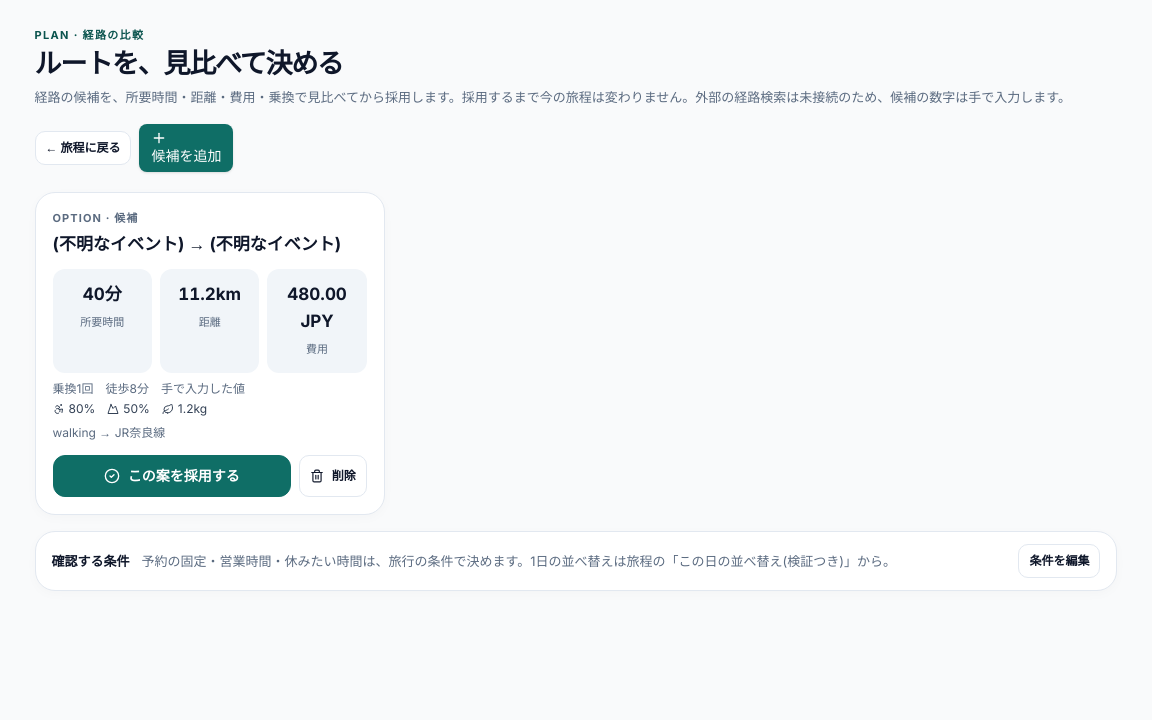
it: RouteOptionsPage (Gate B-013/B-014) › 構造化された409のdetailはmessageを表示する(オブジェクトをそのまま描画しない)
The width and height of the screenshot is (1152, 720).
Click the button with aria-label "この経路候補を削除".
click(333, 476)  # box left=299, top=454, right=367, bottom=497
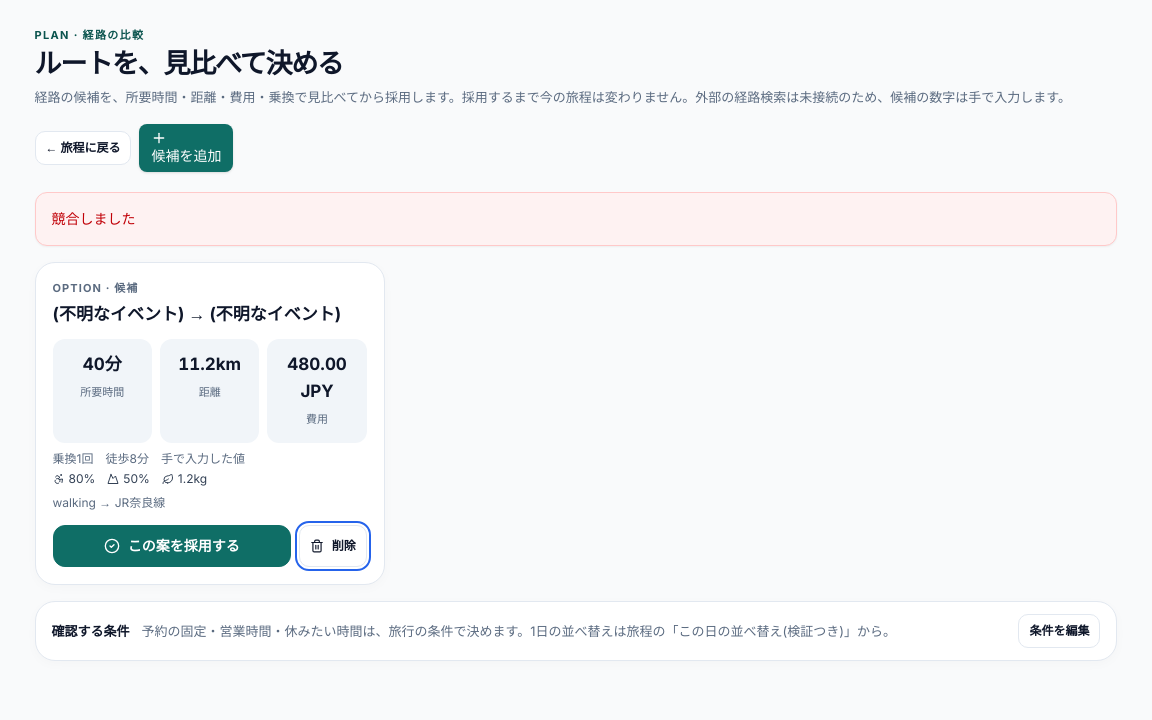
Expected: the text "競合しました" is shown, left=52, top=210, right=136, bottom=227
